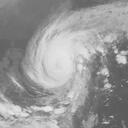cyclone: (20, 17, 90, 95)
